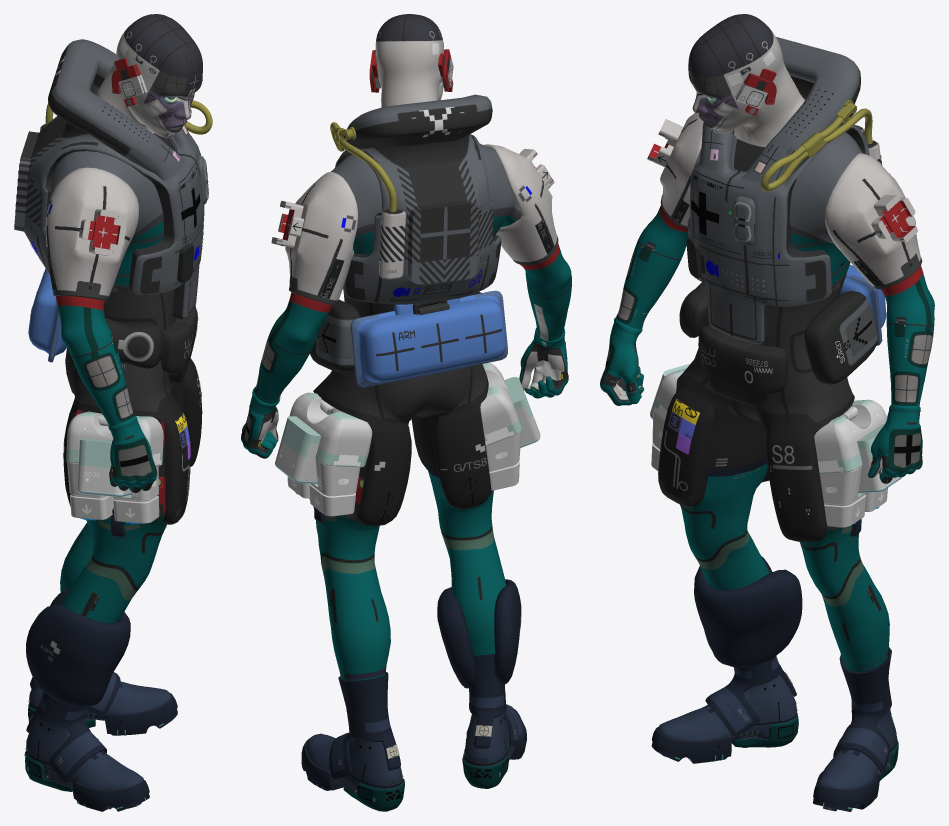
The model's file is Triage.glb.
The picture shows the model from 3 angles, left to right: view 1: azimuth 30°, elevation 25°; view 2: azimuth 150°, elevation 25°; view 3: azimuth 270°, elevation 25°; orthographic projection. The views are drawn at different scales.
Parts seen in each view (by area): view 1: bodysuit, vest, boots, sleeves, Head_Low, shinpad, decals_default, forearm, hands, elbow, satchel_rear, head_low3 (+12 smaller); view 2: bodysuit, vest, boots, sleeves, satchel_rear, decals_default, Head_Low, shinpad, elbow, hands, forearm, rear_left_low2 (+13 smaller); view 3: bodysuit, vest, boots, sleeves, Head_Low, shinpad, forearm, hands, pad_front, satchel_left, decals_default, elbow (+13 smaller).
Boxes of the visible parts, x1,y1,x2,y2 form: bodysuit: [51, 151, 202, 623]; vest: [14, 39, 208, 319]; boots: [25, 672, 177, 811]; sleeves: [46, 167, 138, 301]; Head_Low: [96, 14, 202, 137]; shinpad: [26, 588, 130, 705]; decals_default: [15, 56, 208, 368]; forearm: [71, 340, 134, 425]; hands: [108, 415, 157, 492]; elbow: [56, 296, 114, 356]; satchel_rear: [28, 268, 66, 362]; head_low3: [77, 438, 130, 493]; bodysuit: [309, 143, 521, 680]; vest: [335, 94, 501, 304]; boots: [301, 654, 526, 811]; sleeves: [285, 144, 558, 305]; satchel_rear: [350, 290, 507, 387]; decals_default: [317, 106, 501, 371]; Head_Low: [375, 14, 443, 107]; shinpad: [437, 579, 521, 688]; elbow: [270, 244, 571, 354]; hands: [241, 328, 568, 458]; forearm: [254, 281, 571, 403]; rear_left_low2: [308, 412, 372, 467]; bodysuit: [658, 132, 889, 671]; vest: [687, 37, 869, 344]; boots: [651, 647, 898, 811]; sleeves: [660, 112, 922, 289]; Head_Low: [688, 14, 804, 147]; shinpad: [694, 556, 802, 667]; forearm: [616, 240, 934, 406]; hands: [600, 317, 922, 483]; pad_front: [698, 324, 788, 406]; satchel_left: [804, 291, 877, 384]; decals_default: [679, 43, 882, 383]; elbow: [638, 205, 934, 325].
Bounding box in the file's own units: 0.567 × 1.81 × 0.7101.
27 materials, 15 textured.
